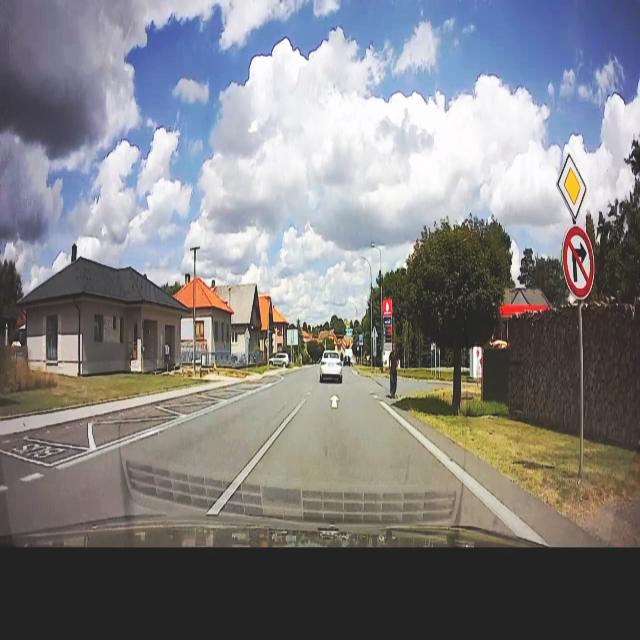Priority road: (555, 148, 588, 220)
